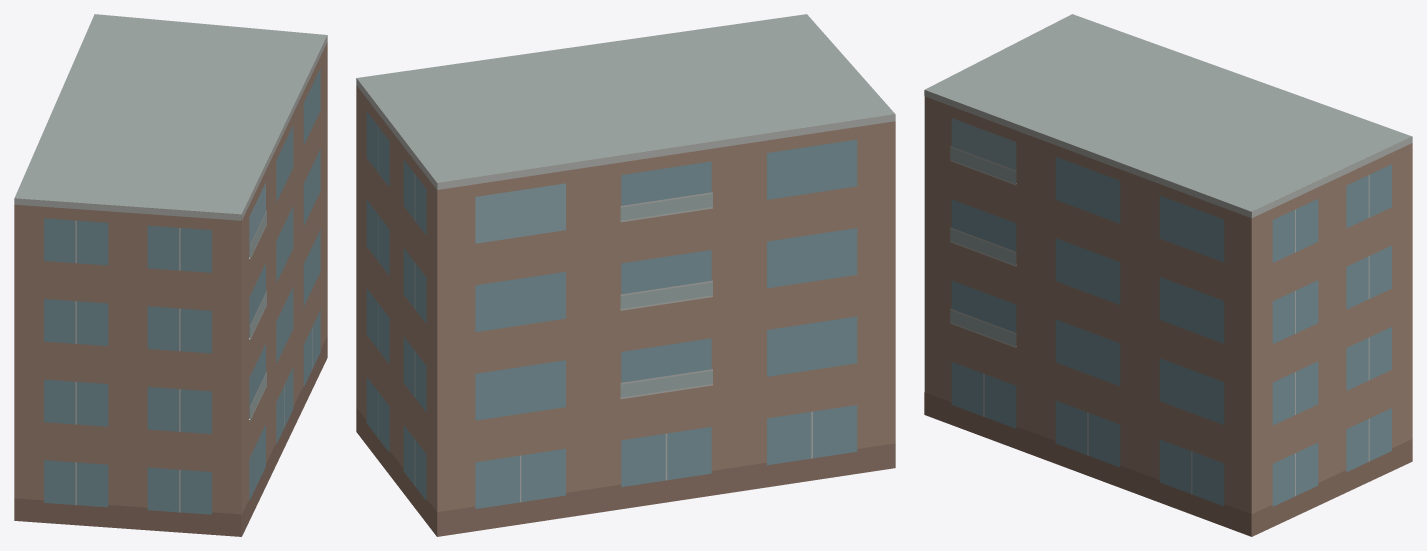
The model's file is survey-upis-32568506.glb.
The picture shows the model from 3 angles, left to right: view 1: azimuth 30°, elevation 25°; view 2: azimuth 150°, elevation 25°; view 3: azimuth 270°, elevation 25°; orthographic projection. The views are drawn at different scales.
Visible parts, largest first — view 1: survey-upis-32568506.tmp; view 2: survey-upis-32568506.tmp; view 3: survey-upis-32568506.tmp.
Boxes of the visible parts, x1=… form: survey-upis-32568506.tmp: x1=14, y1=14, x2=327, y2=536; survey-upis-32568506.tmp: x1=356, y1=14, x2=895, y2=536; survey-upis-32568506.tmp: x1=924, y1=14, x2=1412, y2=536.
Bounding box in the file's own units: 16.06 × 12.3 × 16.75.
